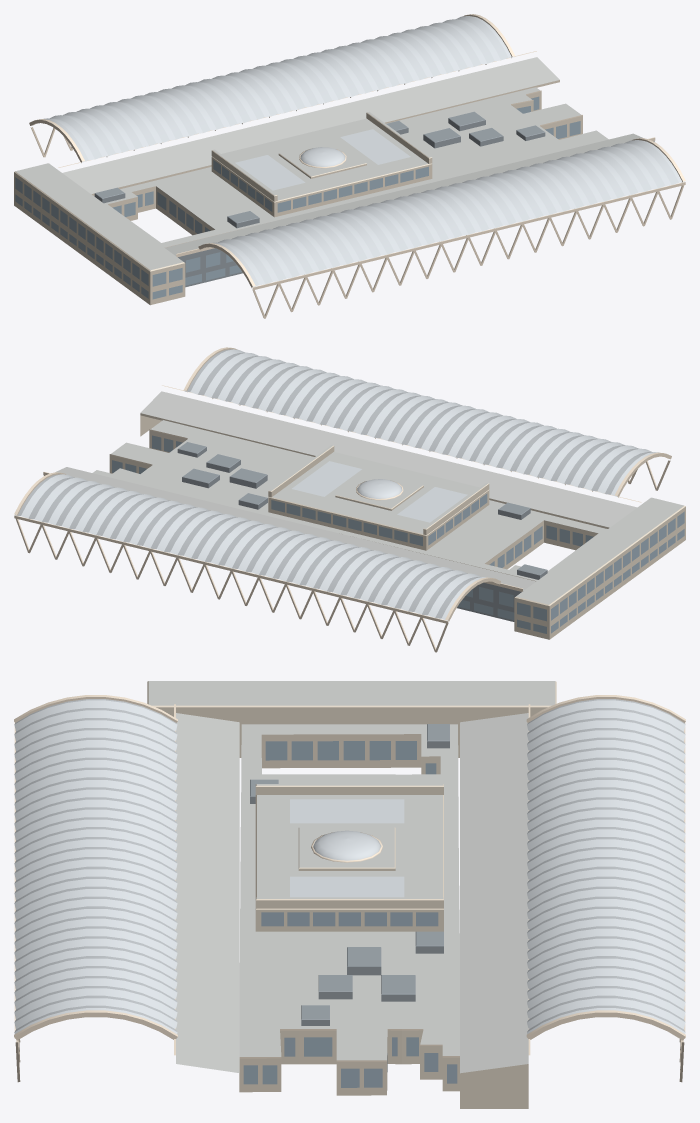
File: atl-hartsfield-jackson-domestic-terminal.glb
3 views of the same model, one above another, from view 1: azimuth 30°, elevation 25°; view 2: azimuth 150°, elevation 25°; view 3: azimuth 270°, elevation 25° (orthographic). The views are drawn at different scales.
Visible parts, largest first — view 1: Hartsfield-Jackson Domestic Terminal; view 2: Hartsfield-Jackson Domestic Terminal; view 3: Hartsfield-Jackson Domestic Terminal.
Part boxes in pixels (x1,y1,x2,y2): Hartsfield-Jackson Domestic Terminal: (14, 14, 685, 318); Hartsfield-Jackson Domestic Terminal: (14, 347, 685, 652); Hartsfield-Jackson Domestic Terminal: (14, 681, 685, 1108).
Size of the model in its own units: 312 by 30.88 by 235.
